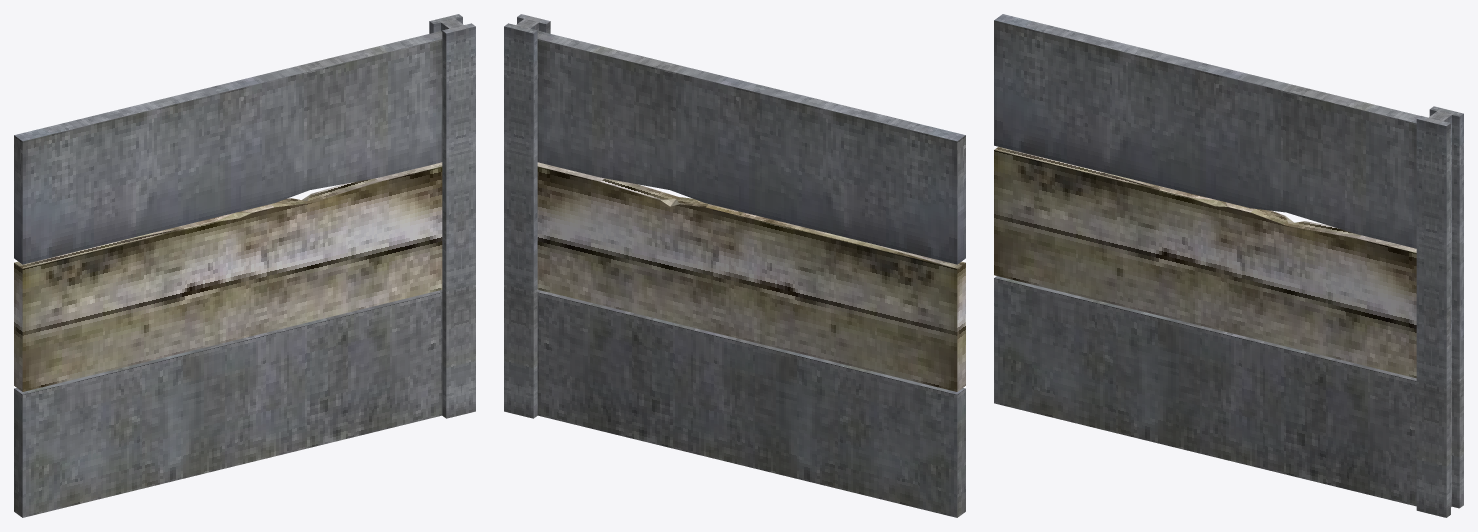
File: lf_plackard_open_patched.glb
3 views of the same model, side by side, from view 1: azimuth 30°, elevation 25°; view 2: azimuth 150°, elevation 25°; view 3: azimuth 330°, elevation 25° (orthographic).
Parts seen in each view (by area): view 1: plackard_open_patched; view 2: plackard_open_patched; view 3: plackard_open_patched.
Boxes of the visible parts, left/top/right/bottom form: plackard_open_patched: left=14, top=14, right=475, bottom=517; plackard_open_patched: left=504, top=14, right=965, bottom=517; plackard_open_patched: left=994, top=14, right=1463, bottom=517.
Size of the model in its own units: 3.05 by 2.5 by 0.1999.
Materials: 1 (1 with a texture image).
